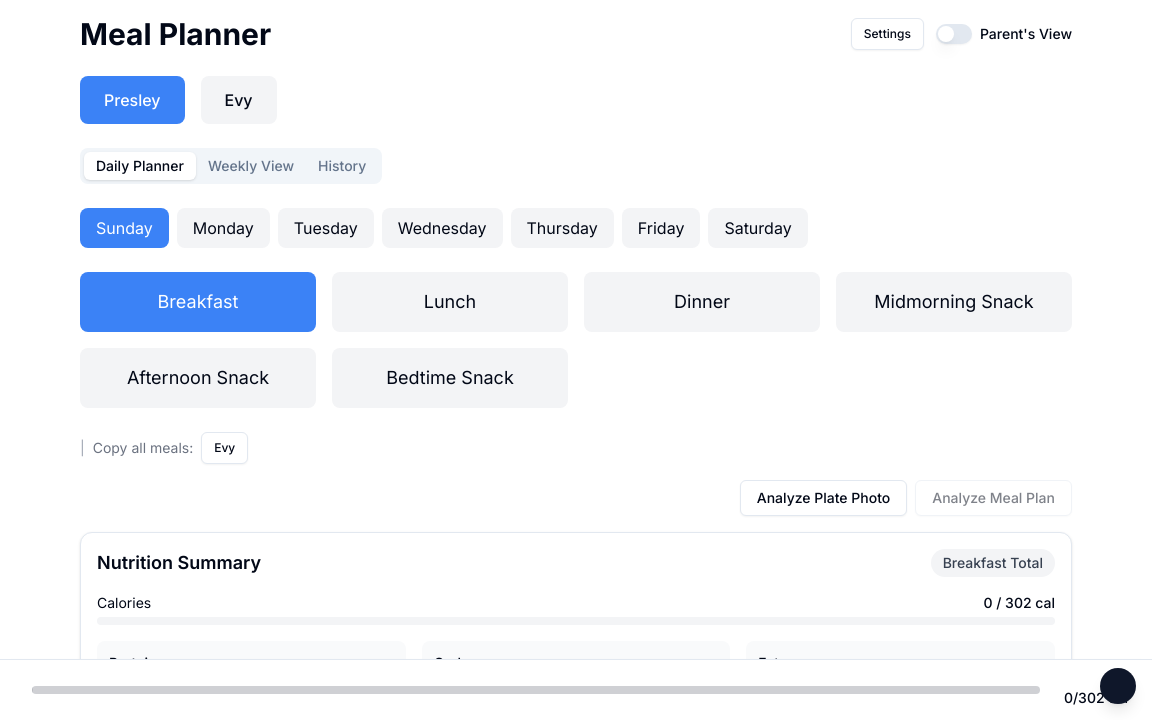
it: MealPlanner Integration Tests › switches between tabs correctly
Select a kid first
Click the button "Presley" at (132, 100), box [80,76,184,124]
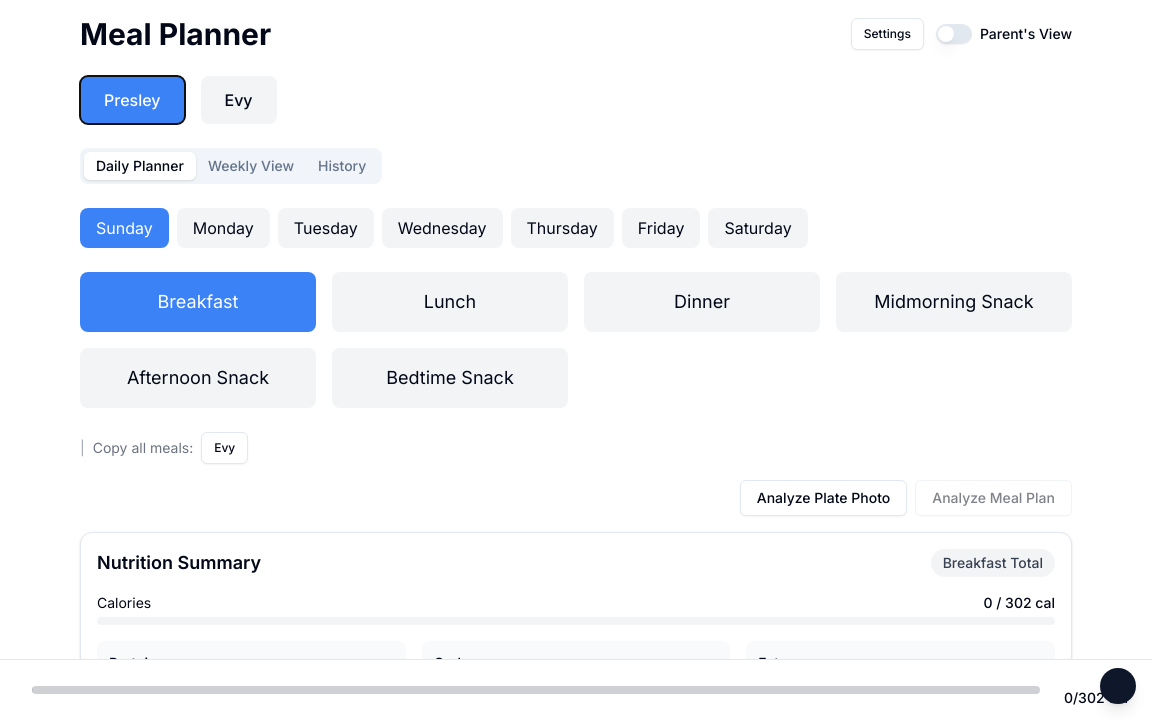
Expected: the tab "Daily Planner" is shown, [84,152,196,180]
Switch to Weekly View
Click the tab "Weekly View" at (251, 166), box [196,152,306,180]
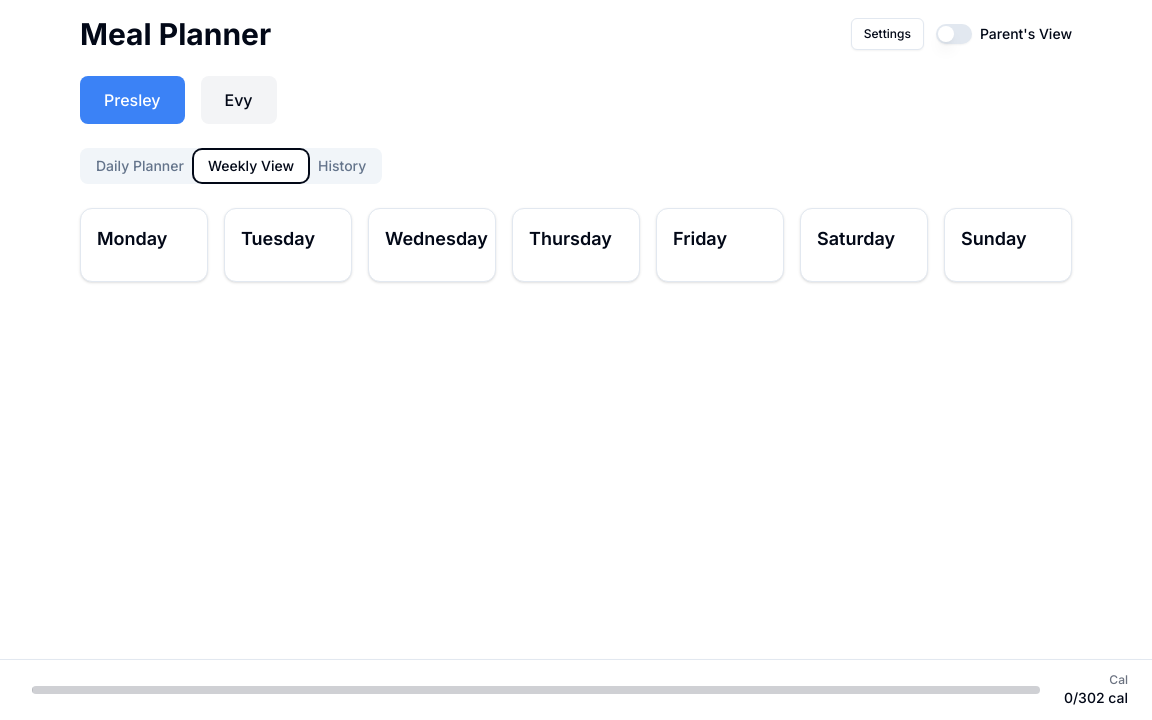
Expected: the heading "monday" is shown, [97,228,168,249]
Switch to History
Click the tab "History" at (342, 166), box [306,152,378,180]
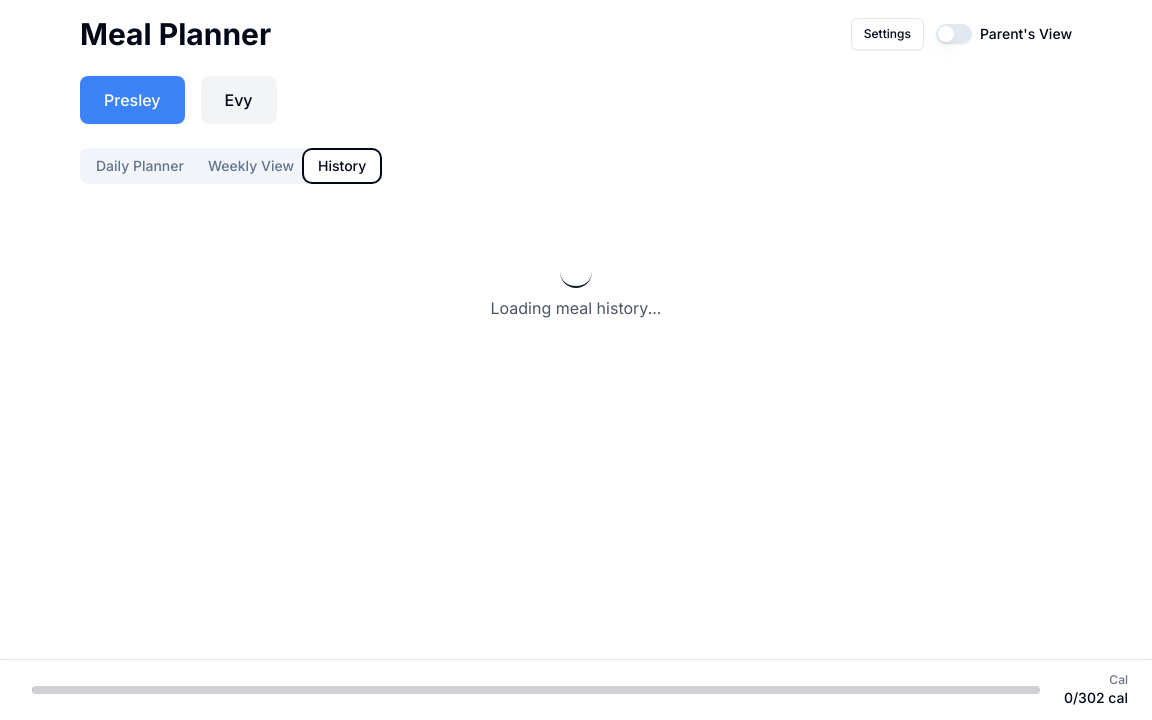
Now the text "Loading meal history..." is shown, box [490,298,661,318]
